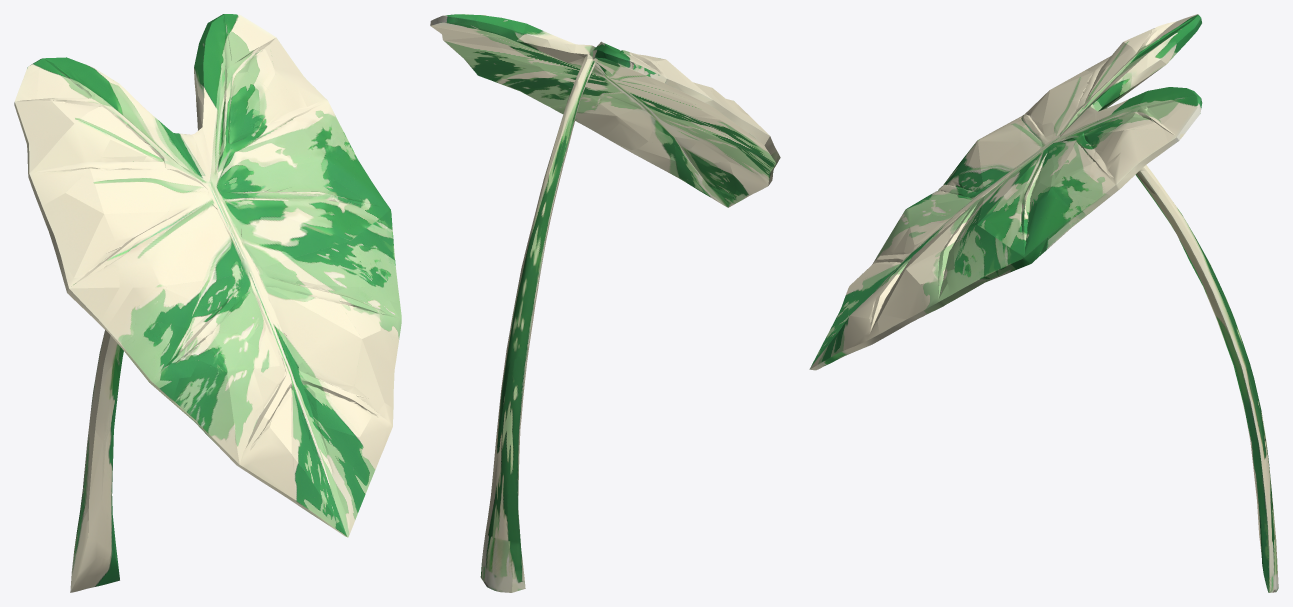
The model's file is al_leaf_mid_marble.glb.
3 views of the same model, side by side, from view 1: azimuth 30°, elevation 25°; view 2: azimuth 150°, elevation 25°; view 3: azimuth 270°, elevation 25° (orthographic). The views are drawn at different scales.
Size of the model in its own units: 1.09 by 1.9 by 1.52.
1 material, 1 textured.
